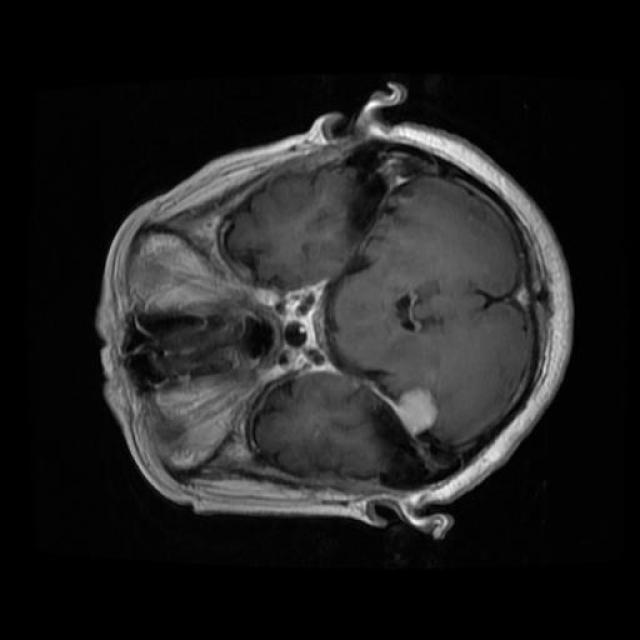Meningioma: (385, 388, 437, 437)
